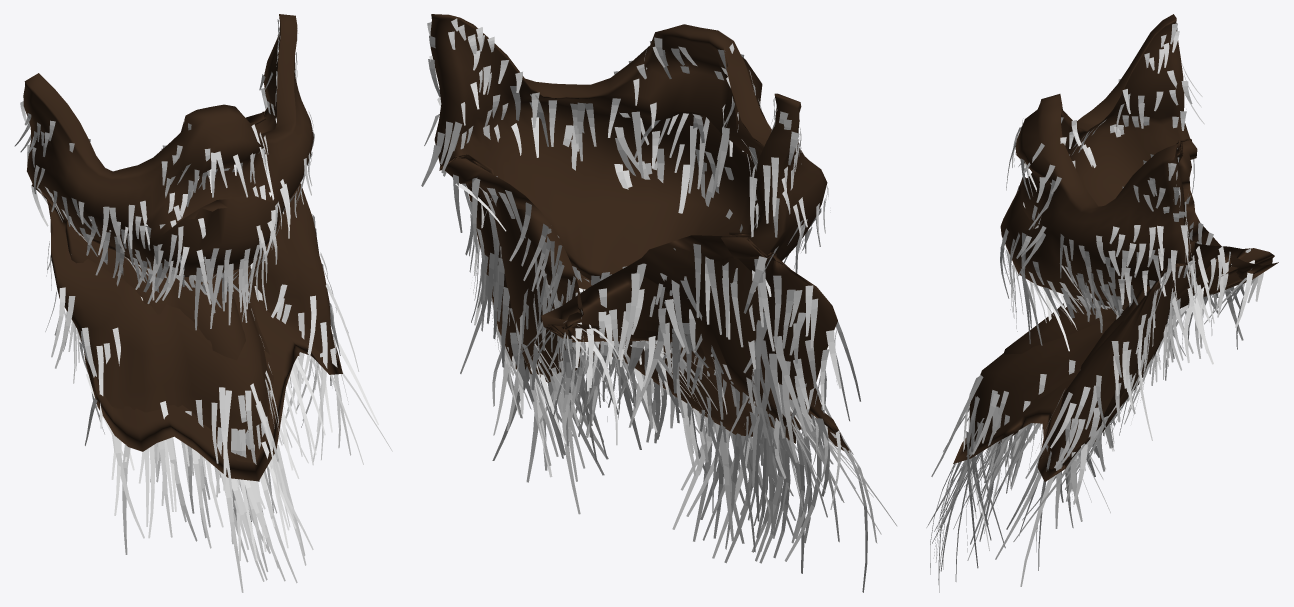
File: beard-huscarl-full.glb
3 views of the same model, side by side, from view 1: azimuth 30°, elevation 25°; view 2: azimuth 150°, elevation 25°; view 3: azimuth 270°, elevation 25° (orthographic). The views are drawn at different scales.
Parts seen in each view (by area): view 1: beard-huscarl-full_1, beard__strands; view 2: beard-huscarl-full_1, beard__strands; view 3: beard-huscarl-full_1, beard__strands.
Part boxes in pixels (x1,y1,x2,y2): beard-huscarl-full_1: (23,14,342,481); beard__strands: (14,19,392,592); beard-huscarl-full_1: (430,14,850,452); beard__strands: (421,18,897,592); beard-huscarl-full_1: (953,14,1278,481); beard__strands: (926,23,1263,592).
Size of the model in its own units: 0.1897 by 0.2742 by 0.1762.
